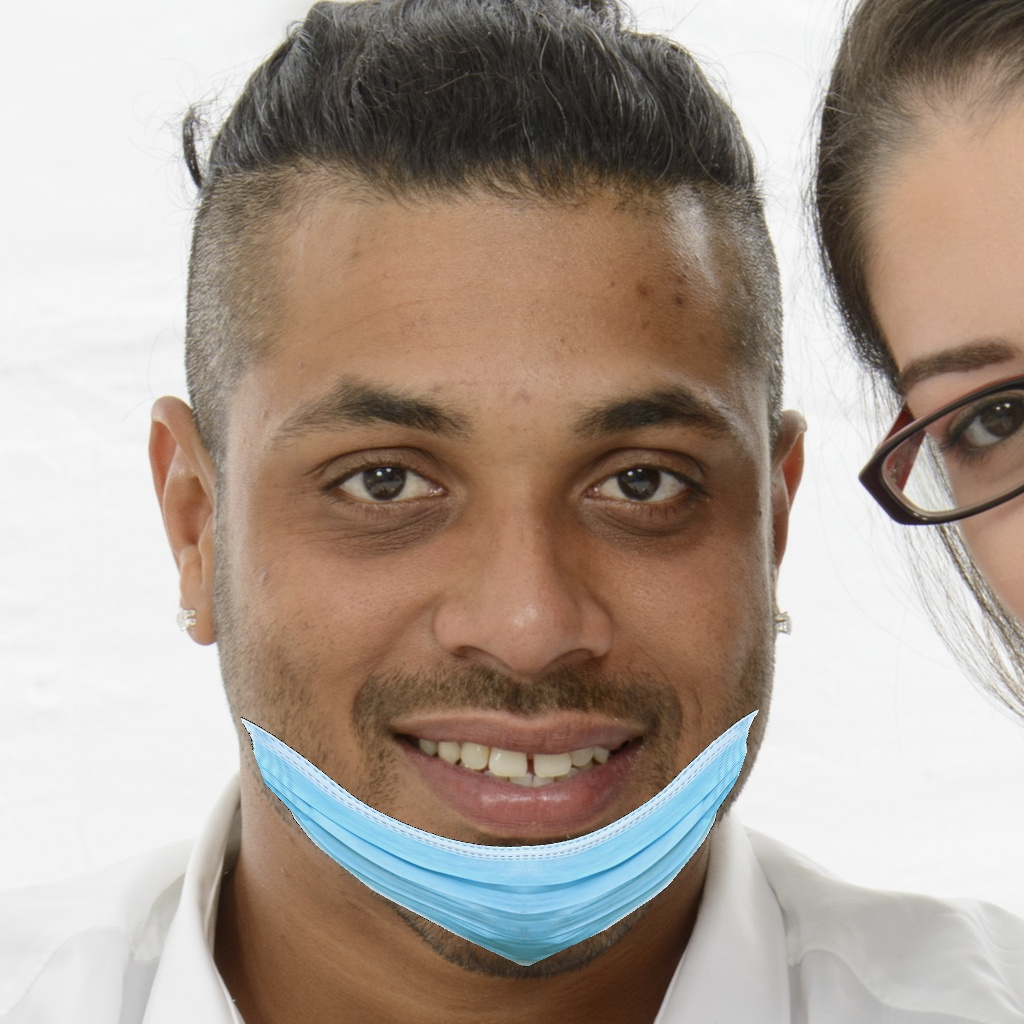Mask_Chin: (218, 358, 767, 967)
